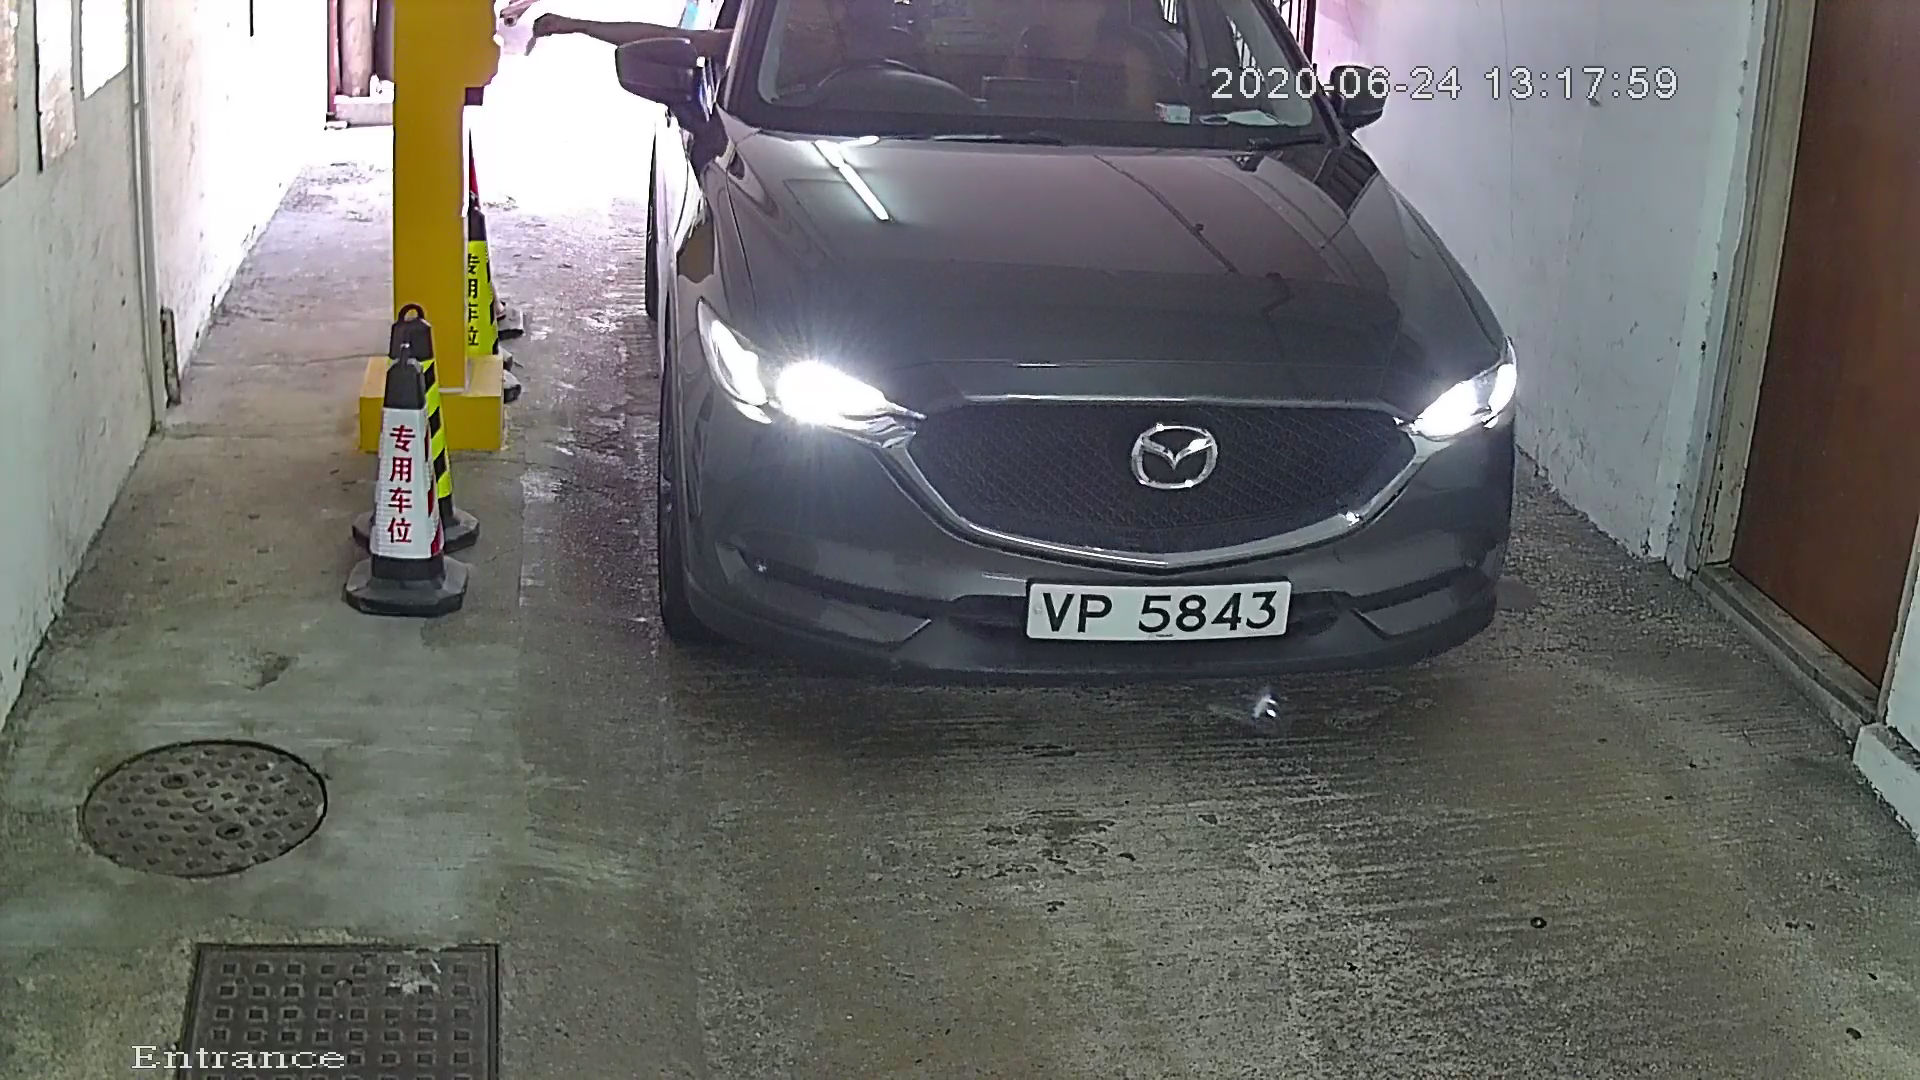Car: (570, 1, 1548, 756)
License Plate: (994, 550, 1328, 673)
